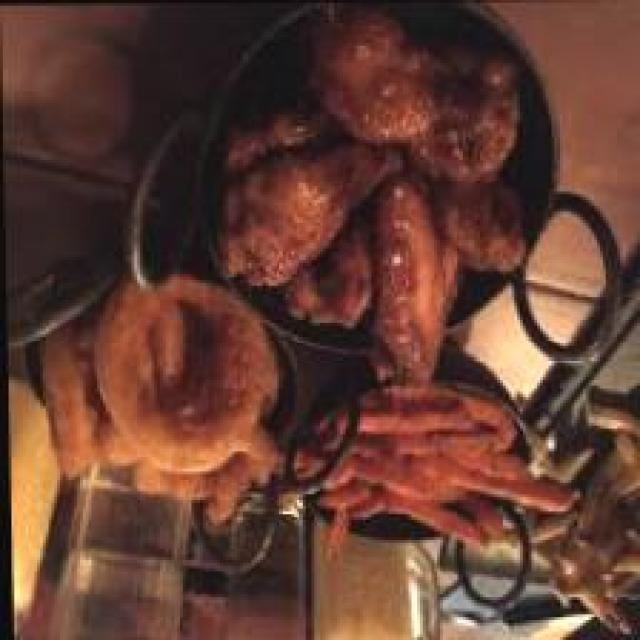Chicken Wings: (214, 3, 532, 391)
French Fries: (494, 390, 640, 630)
Onion Rings: (32, 273, 294, 536)
